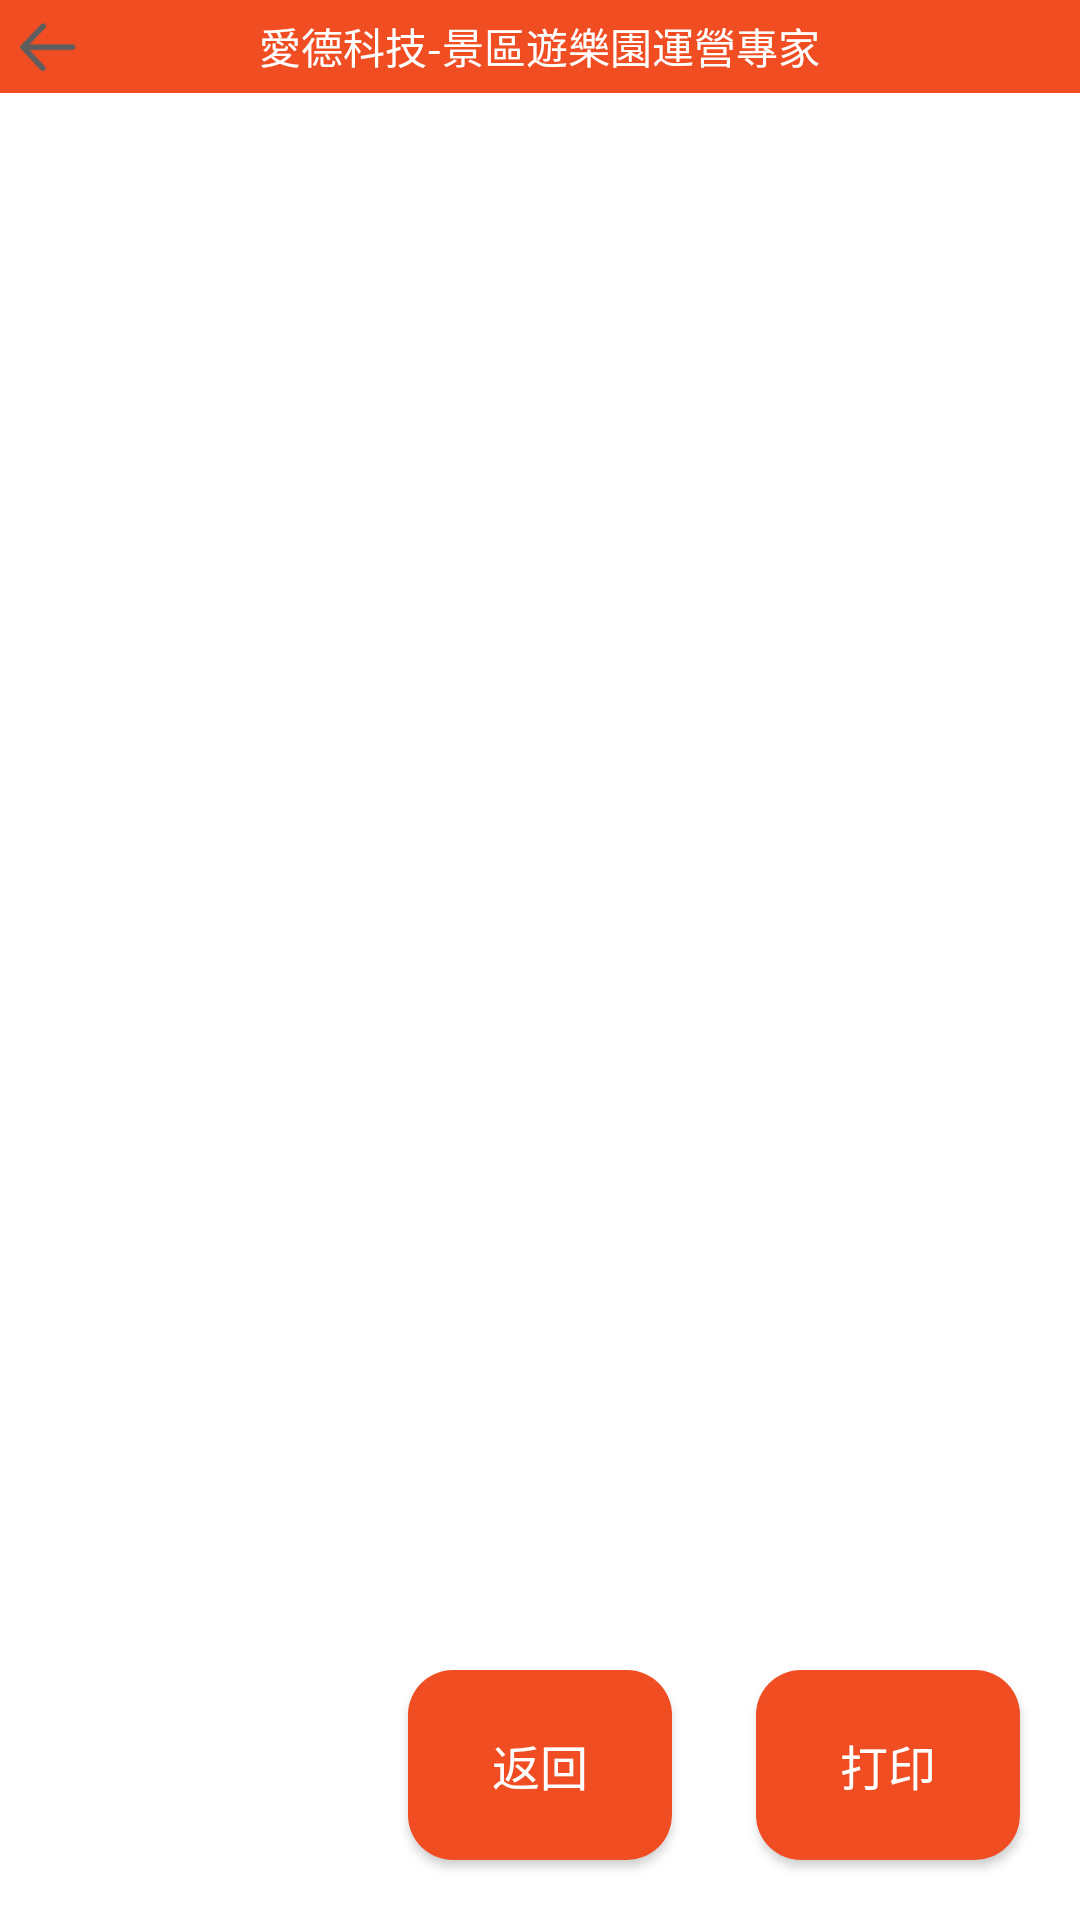

Where icons sit on this 1080px x 1920px app screen, as rect(x1, y1, x2, y2):
set back: rect(20, 23, 76, 71)
